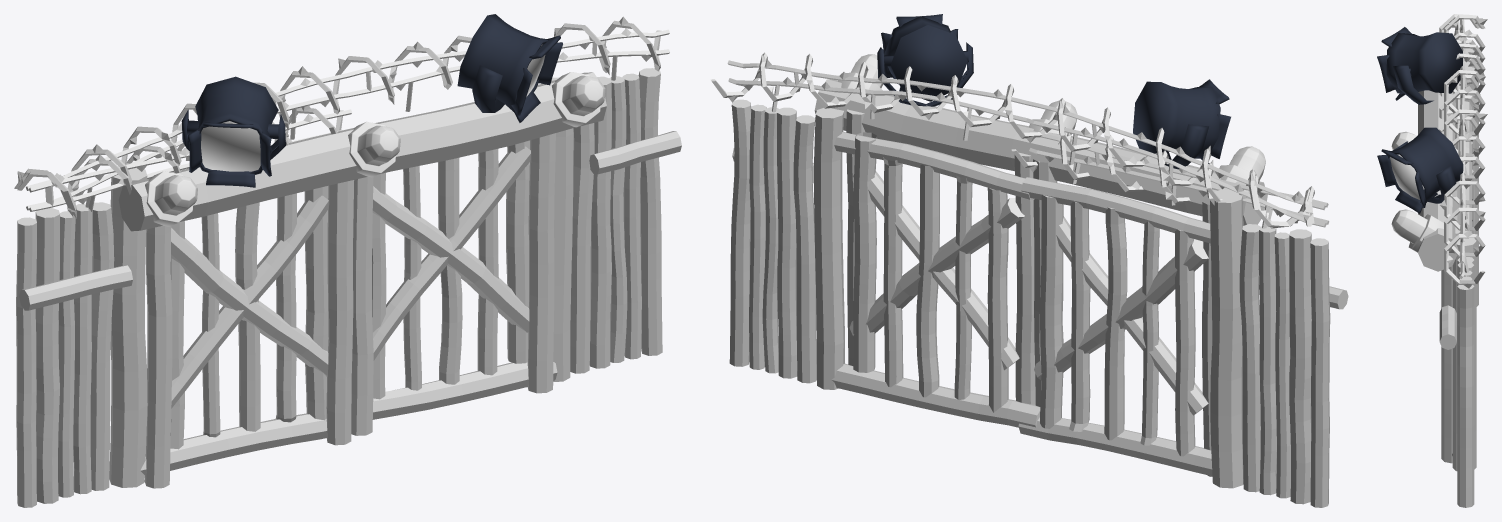
Rendered from gate(1).fbx.
The picture shows the model from 3 angles, left to right: view 1: azimuth 30°, elevation 25°; view 2: azimuth 150°, elevation 25°; view 3: azimuth 270°, elevation 25°; orthographic projection. The views are drawn at different scales.
Parts seen in each view (by area): view 1: Cube, Cylinder.001, Cylinder, Cylinder.003, Cylinder.004, Cylinder.006, Cylinder.005, Cylinder.002; view 2: Cube, Cylinder.001, Cylinder, Cylinder.003, Cylinder.004, Cylinder.005, Cylinder.006; view 3: Cube, Cylinder.001, Cylinder.003, Cylinder, Cylinder.006, Cylinder.004, Cylinder.002.
Part boxes in pixels (left/top/right/bottom): Cube: left=16, top=68, right=681, bottom=507; Cylinder.001: left=14, top=16, right=669, bottom=217; Cylinder: left=181, top=76, right=285, bottom=187; Cylinder.003: left=457, top=14, right=562, bottom=122; Cylinder.004: left=17, top=105, right=352, bottom=218; Cylinder.006: left=552, top=72, right=605, bottom=127; Cylinder.005: left=145, top=171, right=197, bottom=226; Cylinder.002: left=348, top=121, right=400, bottom=177; Cube: left=729, top=79, right=1348, bottom=507; Cylinder.001: left=711, top=52, right=1326, bottom=228; Cylinder: left=1133, top=79, right=1230, bottom=169; Cylinder.003: left=877, top=14, right=973, bottom=106; Cylinder.004: left=1011, top=127, right=1329, bottom=228; Cylinder.005: left=1219, top=146, right=1265, bottom=182; Cylinder.006: left=838, top=54, right=883, bottom=90; Cube: left=1417, top=48, right=1478, bottom=507; Cylinder.001: left=1440, top=14, right=1487, bottom=288; Cylinder.003: left=1377, top=127, right=1463, bottom=213; Cylinder: left=1377, top=27, right=1462, bottom=104; Cylinder.006: left=1391, top=209, right=1443, bottom=252; Cylinder.004: left=1438, top=14, right=1482, bottom=164; Cylinder.002: left=1391, top=131, right=1416, bottom=149.
Size of the model in its own units: 886 by 512 by 166.
